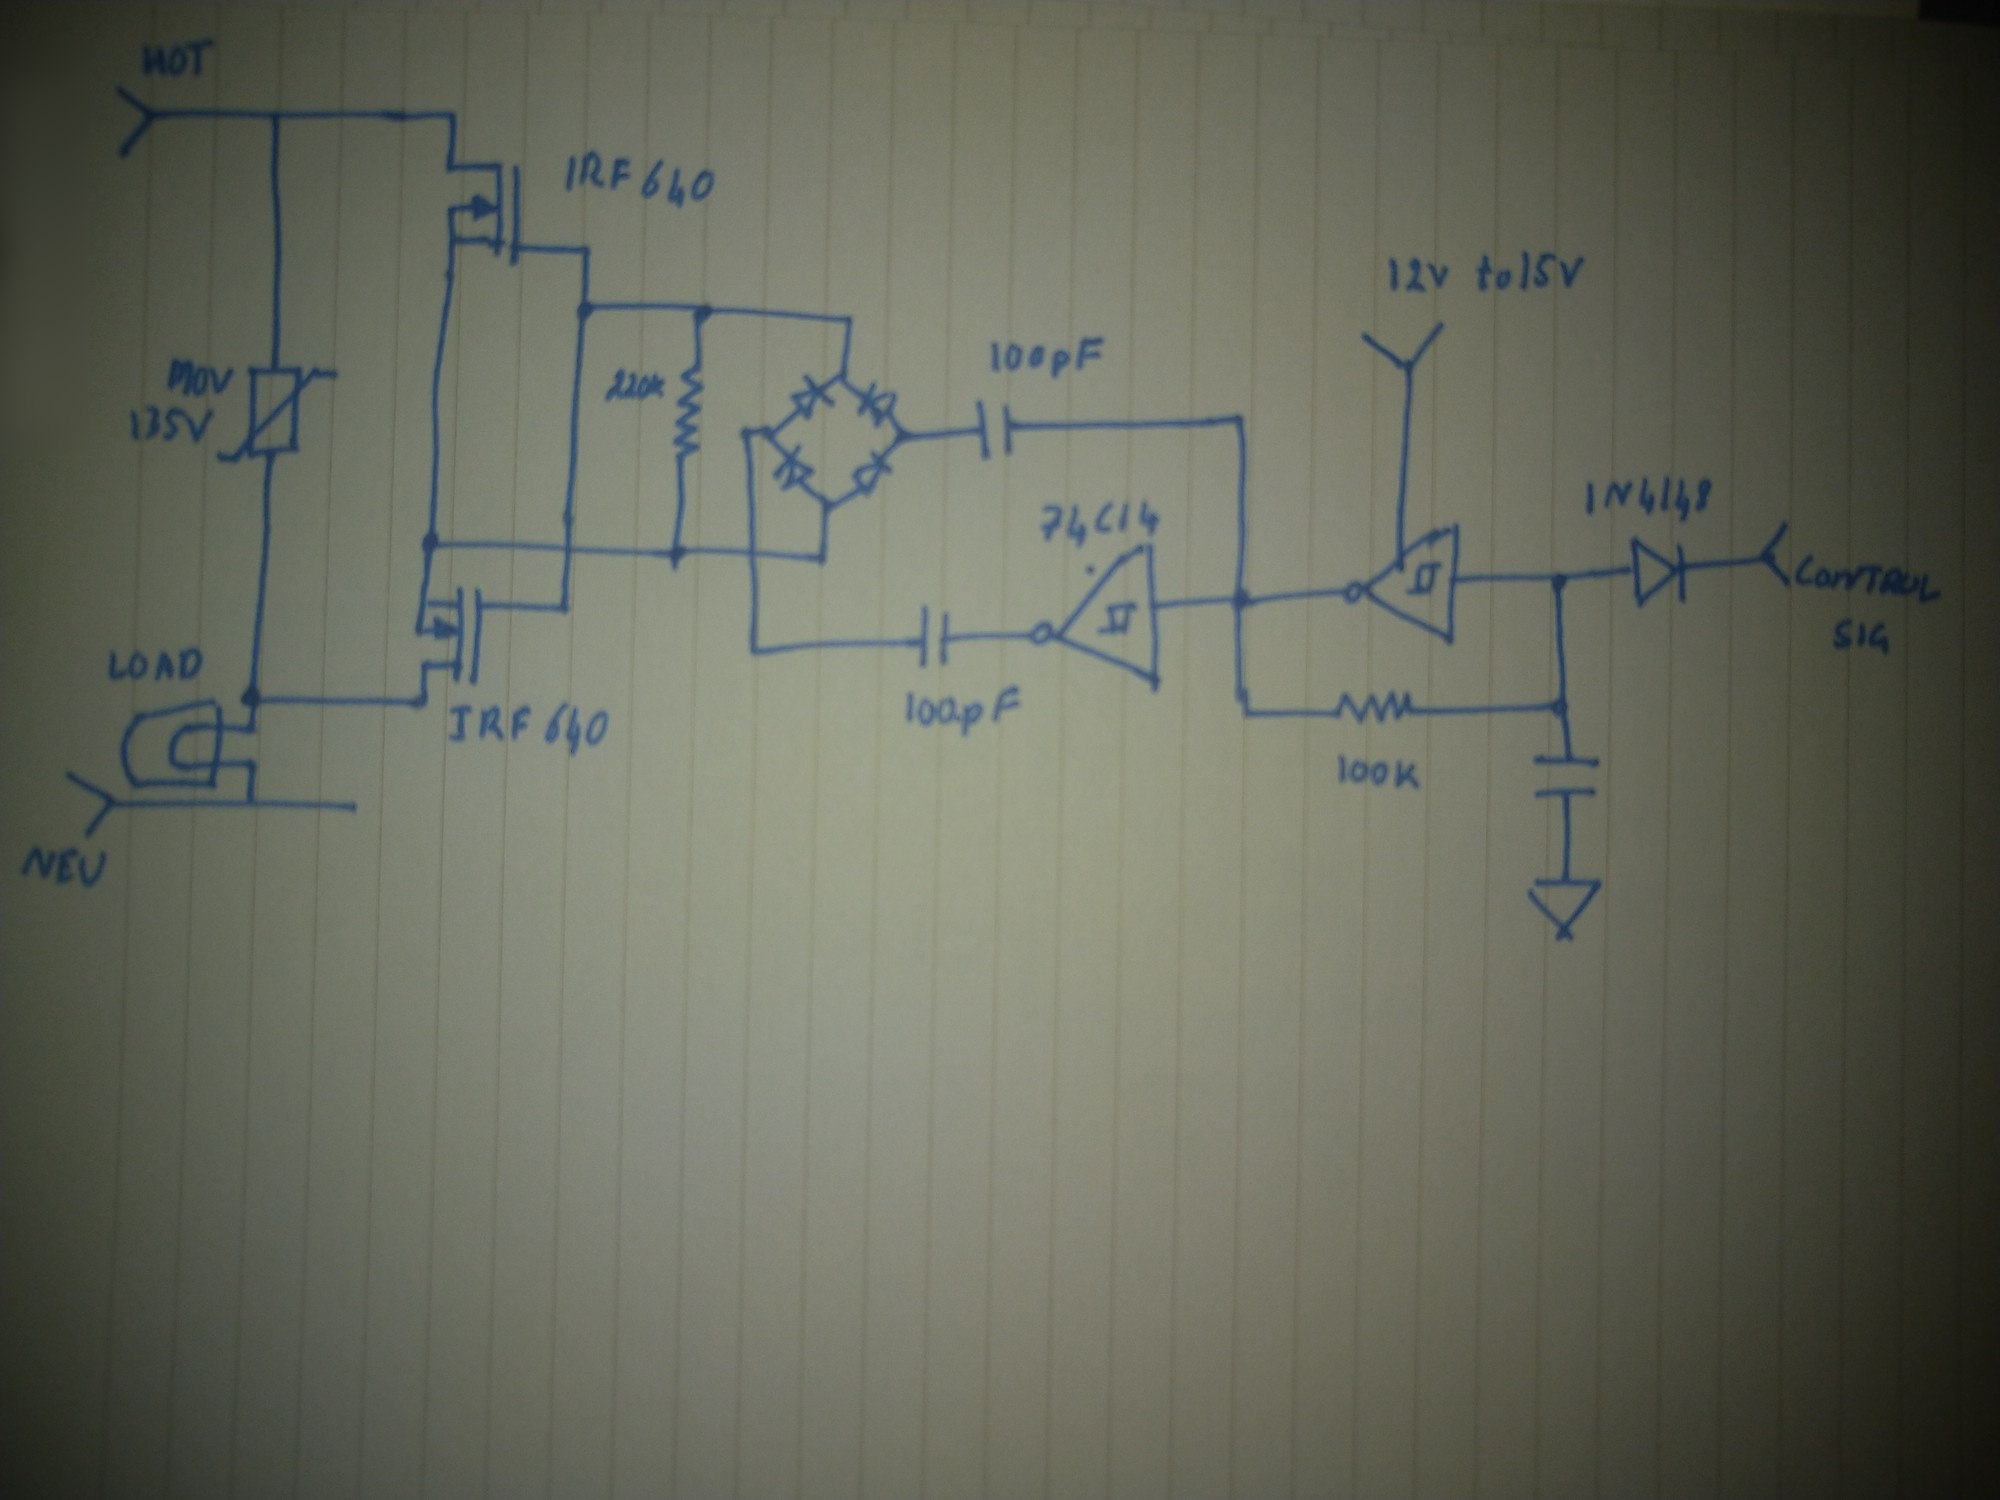capacitor.unpolarized: (1524, 741, 1606, 810), (969, 394, 1022, 460), (910, 602, 957, 673)
crossover: (742, 542, 767, 562), (556, 540, 578, 559)
diode: (1625, 531, 1698, 608), (787, 372, 835, 422), (847, 449, 894, 498), (772, 444, 817, 493), (854, 381, 898, 429)
gnd: (1518, 874, 1608, 945)
junction: (235, 682, 271, 709), (570, 296, 598, 328), (1546, 693, 1575, 723), (1225, 586, 1252, 614), (687, 299, 717, 325), (1545, 567, 1575, 592), (1230, 698, 1257, 725), (416, 528, 443, 555), (663, 540, 691, 566), (265, 101, 287, 128), (1227, 407, 1249, 432), (813, 495, 839, 514), (553, 596, 575, 618), (743, 637, 764, 660), (575, 239, 595, 262), (241, 717, 261, 739), (439, 106, 461, 124), (414, 689, 431, 712), (831, 366, 850, 386), (891, 424, 910, 444), (759, 422, 778, 443), (811, 548, 831, 567), (346, 796, 364, 818), (838, 310, 858, 328), (243, 791, 260, 811), (243, 753, 261, 770), (737, 424, 754, 441)
lamp: (117, 696, 224, 789)
resistor: (1328, 689, 1420, 730), (672, 364, 709, 463)
schmitt_trigger: (1027, 540, 1169, 696), (1339, 522, 1468, 651)
terminal: (1354, 318, 1449, 370), (106, 80, 159, 161), (61, 770, 117, 838), (1757, 518, 1795, 588)
text: (561, 147, 717, 213), (447, 700, 611, 759), (1383, 249, 1587, 295), (1794, 555, 1943, 605), (1580, 473, 1717, 523), (899, 682, 1024, 737), (1036, 496, 1164, 547), (983, 331, 1106, 381), (16, 841, 110, 890), (106, 644, 206, 687), (1332, 750, 1424, 794), (135, 35, 219, 82), (124, 403, 216, 444), (1828, 614, 1894, 659), (164, 358, 231, 399), (602, 369, 671, 405)
transistor: (436, 158, 528, 266), (409, 581, 498, 687)
varistor: (216, 366, 340, 462)
